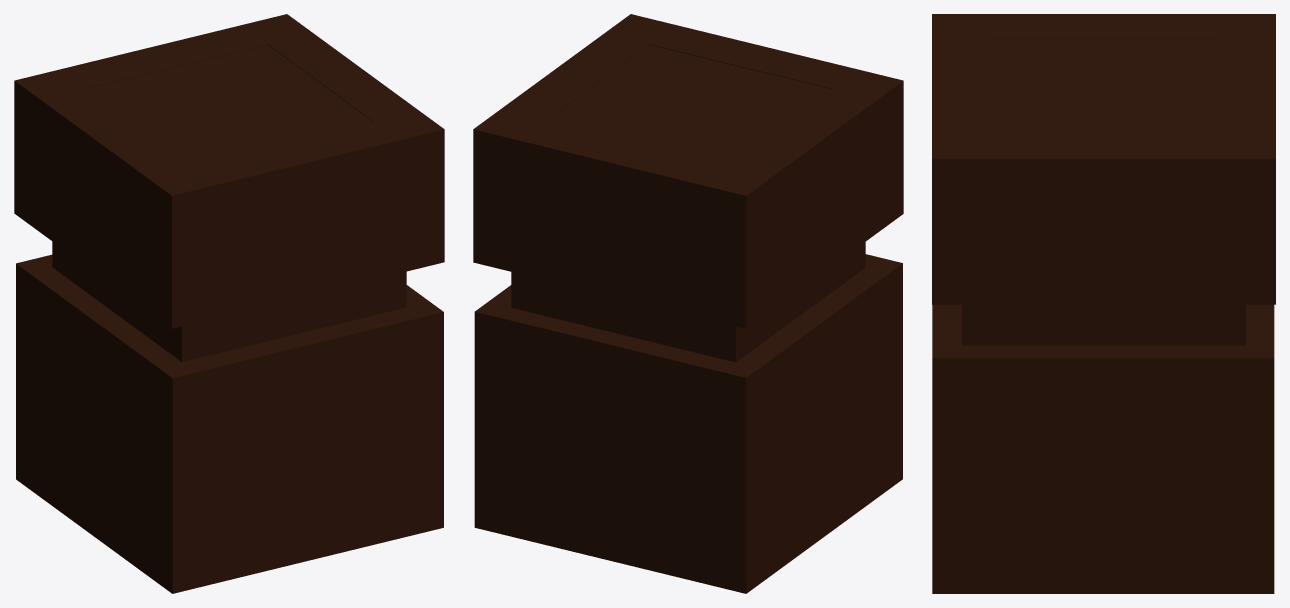
The picture shows the model from 3 angles, left to right: view 1: azimuth 30°, elevation 25°; view 2: azimuth 150°, elevation 25°; view 3: azimuth 270°, elevation 25°; orthographic projection. The views are drawn at different scales.
Visible parts, largest first — view 1: 四角1_茶; view 2: 四角1_茶; view 3: 四角1_茶.
Part boxes in pixels (x1=…): 四角1_茶: x1=14, y1=14, x2=444, y2=593; 四角1_茶: x1=473, y1=14, x2=903, y2=593; 四角1_茶: x1=932, y1=14, x2=1275, y2=593.
Bounding box in the file's own units: 0.0243 × 0.034 × 0.0243.
